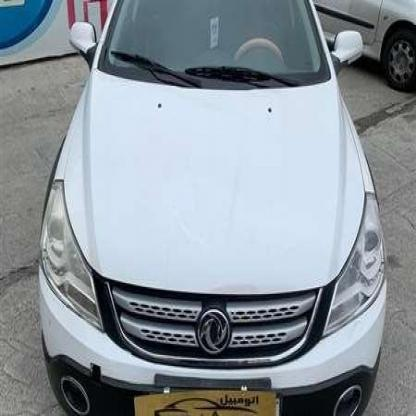Car: (0, 0, 391, 416), (298, 0, 416, 94)
